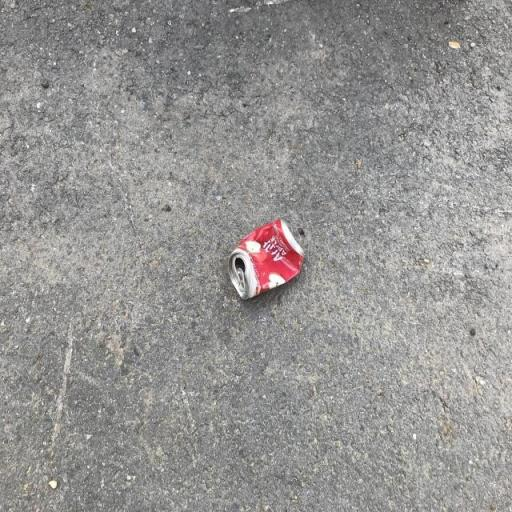metal: (218, 201, 316, 324)
